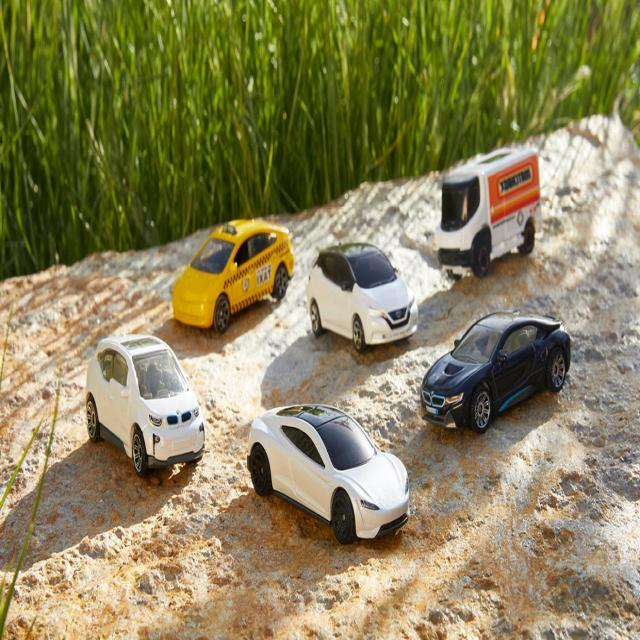Car: (247, 402, 410, 545), (421, 308, 572, 434), (86, 333, 206, 477), (172, 216, 295, 334), (306, 240, 418, 352)
